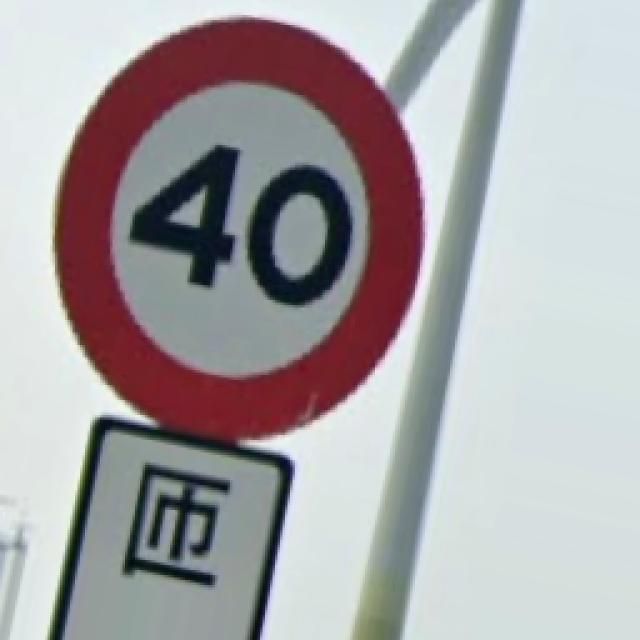Speed Limit -40-: (58, 20, 420, 435)
